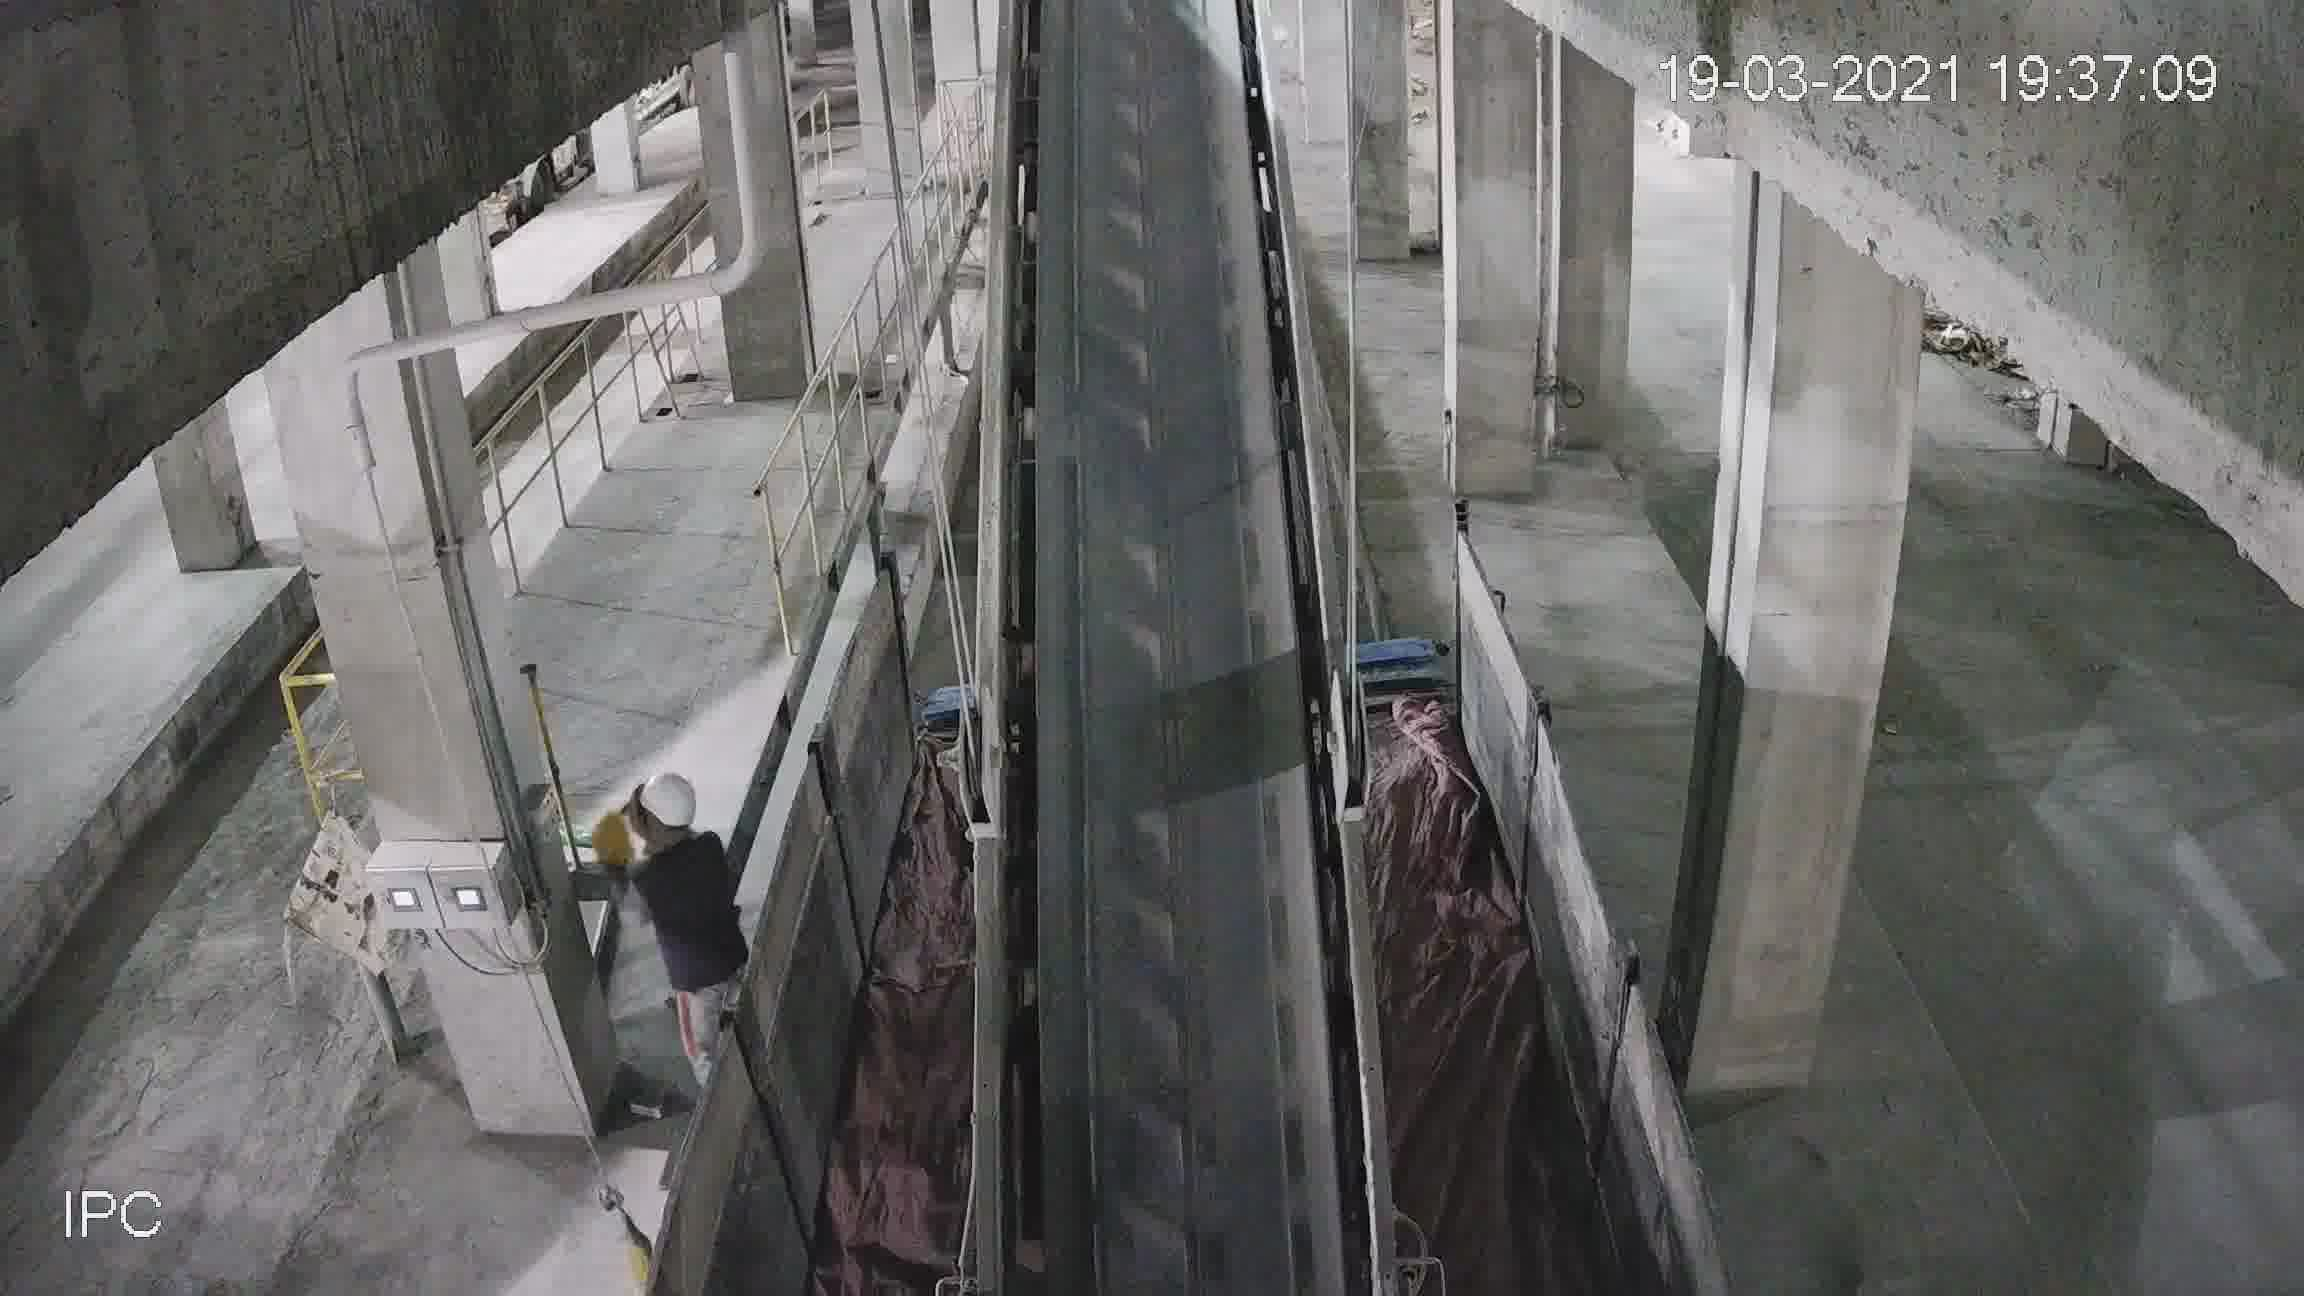belt: (986, 65, 1347, 1157)
